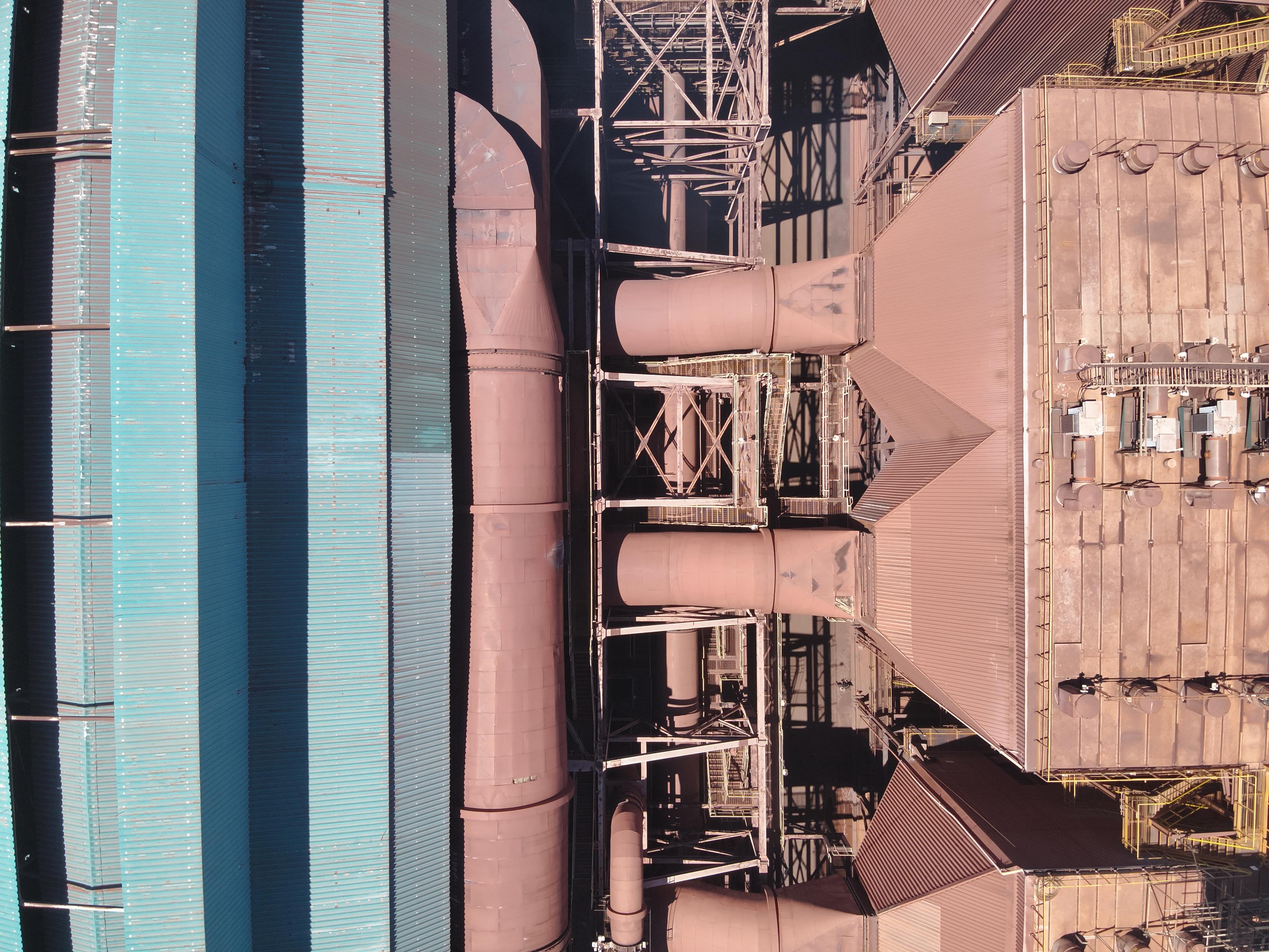Failures: (834, 595, 856, 617), (512, 774, 538, 785)
